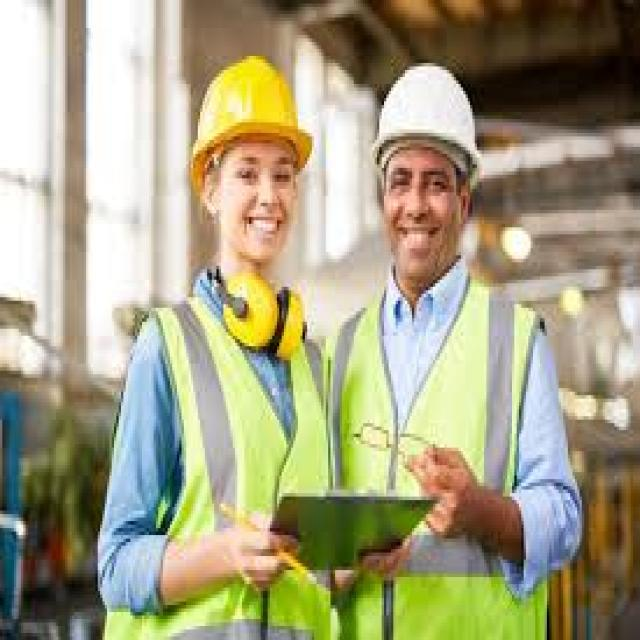Reflective-Jacket: (100, 276, 331, 636), (328, 273, 554, 640)
Safety-Helmet: (184, 49, 316, 178), (368, 60, 486, 178)
